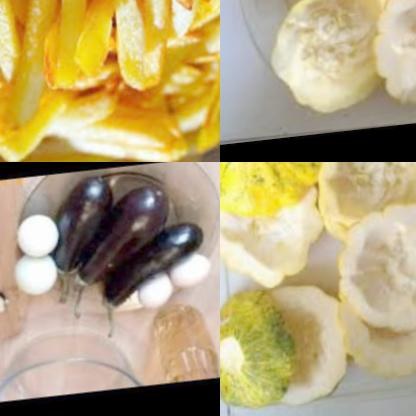eggplant: (58, 187, 176, 299), (83, 228, 220, 316), (30, 177, 104, 284)
potato: (0, 0, 220, 162)
squash-patisson: (250, 0, 392, 125), (220, 162, 330, 296), (251, 278, 347, 413), (324, 202, 416, 336), (220, 289, 289, 416), (301, 162, 416, 236), (325, 296, 416, 386), (220, 162, 340, 221), (363, 0, 416, 117)
